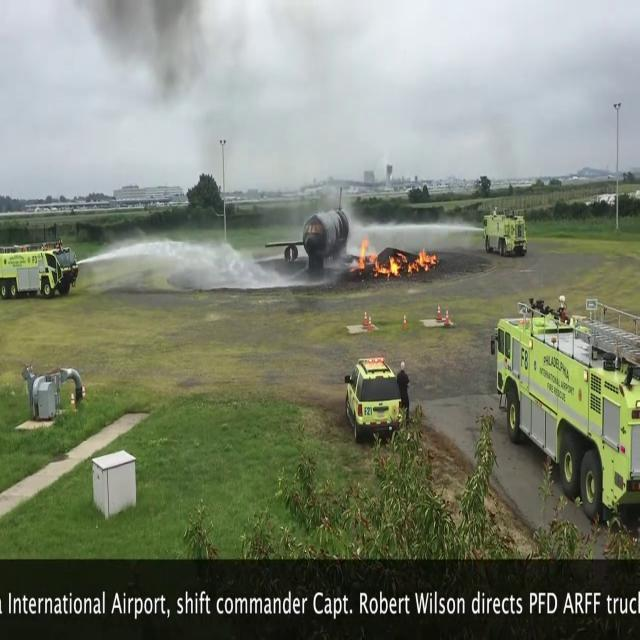Fire: (354, 233, 439, 280)
